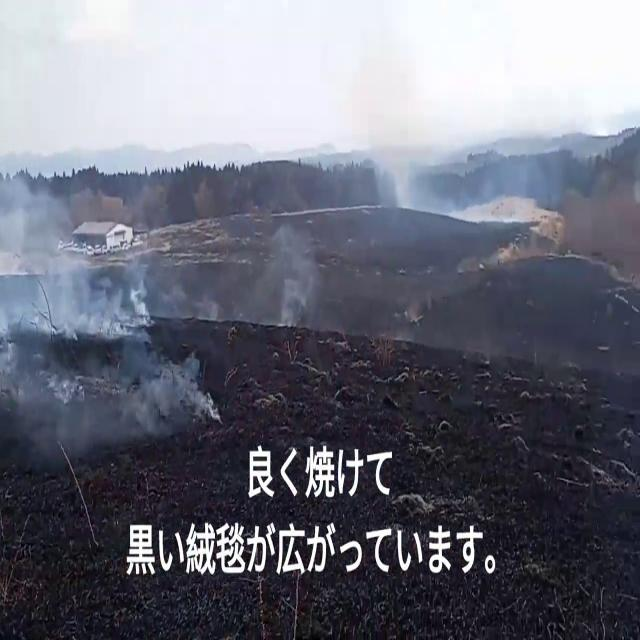Smoke: (0, 136, 160, 342), (3, 331, 208, 464), (362, 110, 536, 230), (220, 212, 357, 338)
